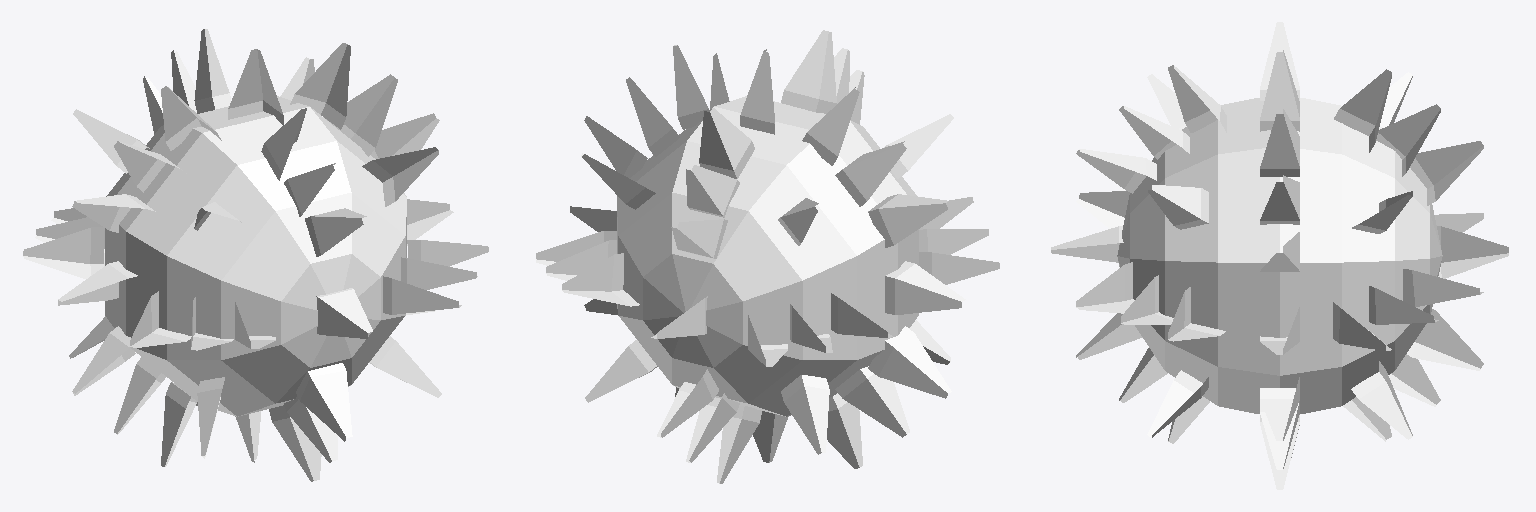
Rendered from mine-low.obj.
3 views of the same model, side by side, from view 1: azimuth 30°, elevation 25°; view 2: azimuth 150°, elevation 25°; view 3: azimuth 270°, elevation 25° (orthographic).
Parts seen in each view (by area): view 1: Vertex_Object; view 2: Vertex_Object; view 3: Vertex_Object.
Part boxes in pixels (left/top/right/bottom): Vertex_Object: left=23, top=29, right=488, bottom=481; Vertex_Object: left=536, top=30, right=999, bottom=483; Vertex_Object: left=1051, top=22, right=1508, bottom=489.
Bounding box in the file's own units: 83.5 × 83.5 × 84.4.